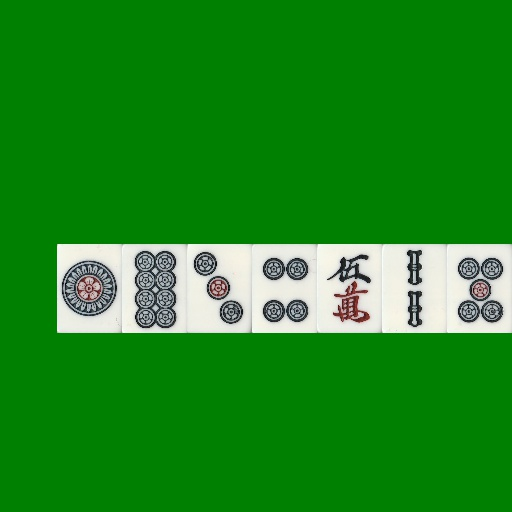1p: (57, 244, 122, 333)
2s: (382, 244, 447, 333)
3p: (187, 244, 252, 333)
4p: (252, 244, 317, 333)
5m: (317, 244, 382, 333)
5p: (447, 244, 512, 333)
8p: (122, 244, 187, 333)
